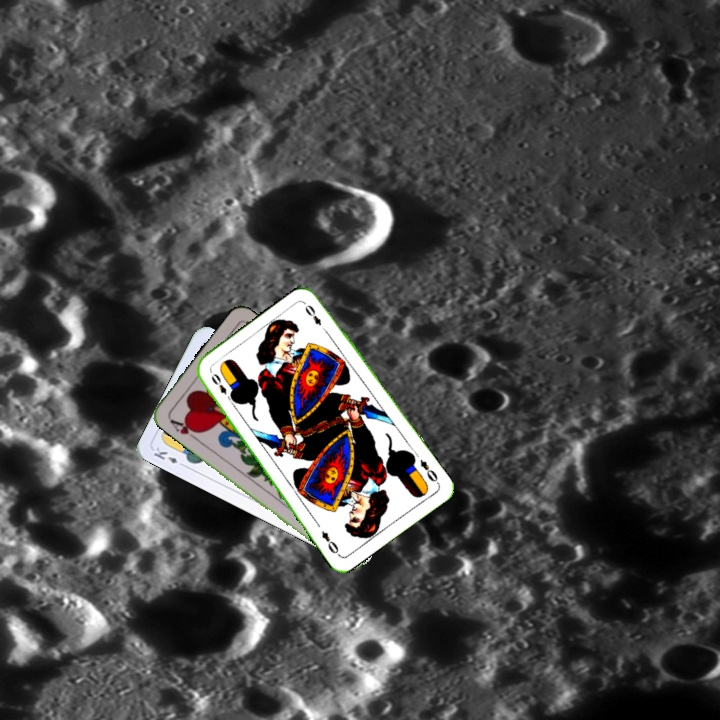EK: (150, 443, 188, 470)
EO: (207, 369, 235, 404), (416, 455, 442, 487)
HA: (165, 414, 203, 443)
